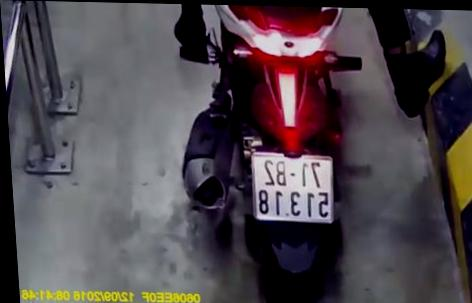License_Plate: (240, 149, 344, 228)
